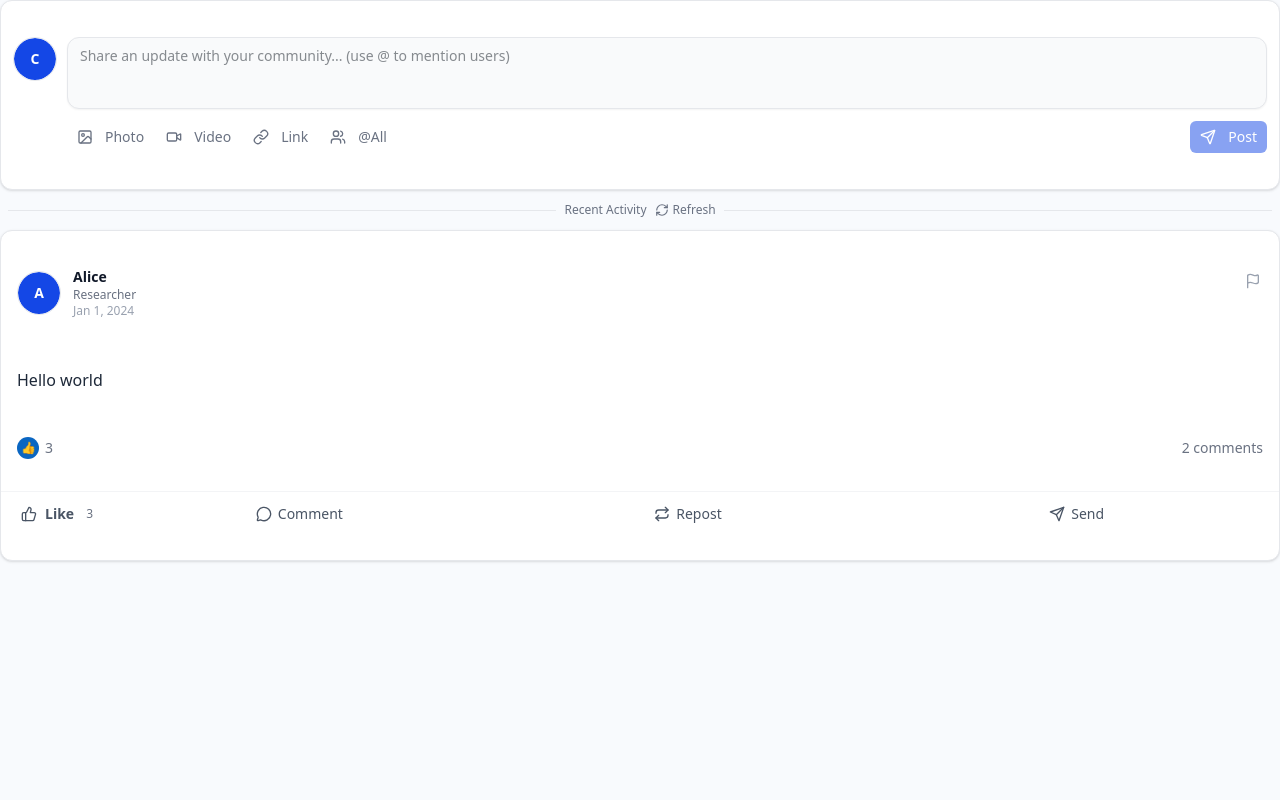
Scenario: FeedClient › unread & refresh › replaces posts after refresh
Click the button with aria-label "refresh feed" at (685, 210), box x1=655 y1=202 x2=716 y2=218
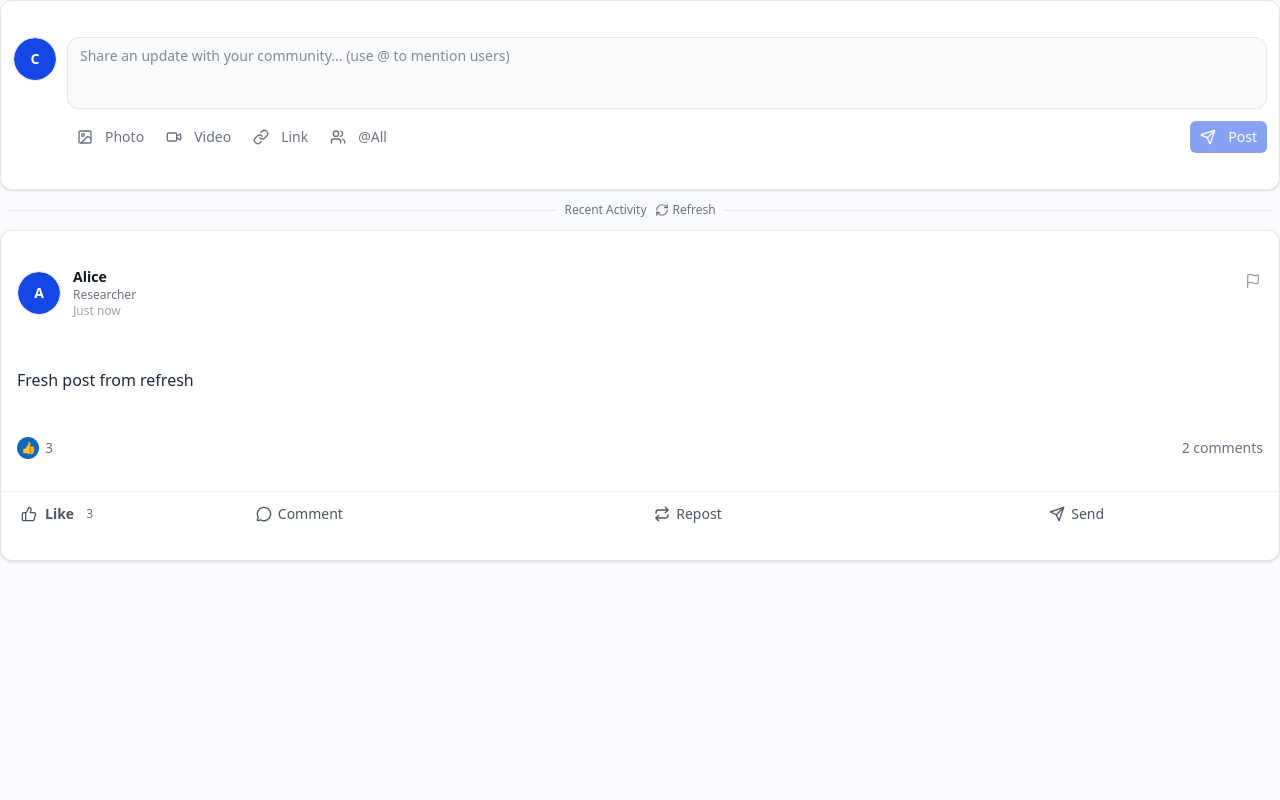
Now the text "Fresh post from refresh" is shown, box x1=17 y1=369 x2=194 y2=391
